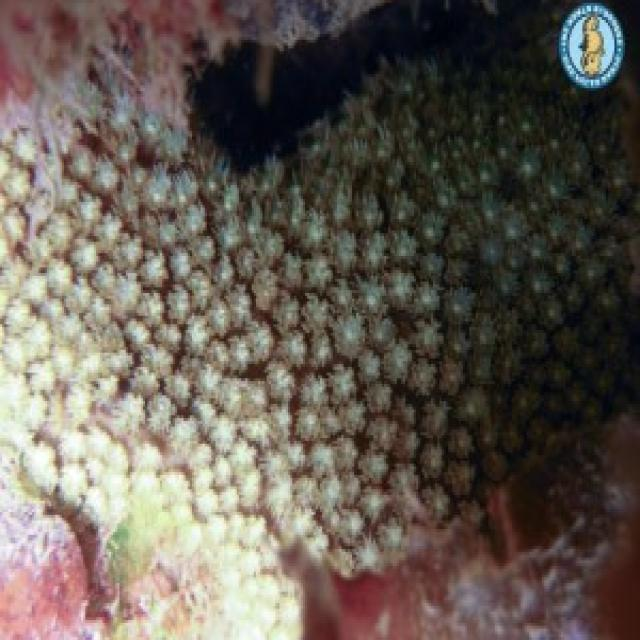Bleached: (1, 67, 640, 578)
